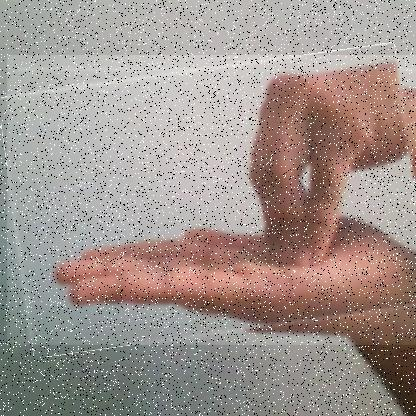Z: (6, 55, 416, 346)
